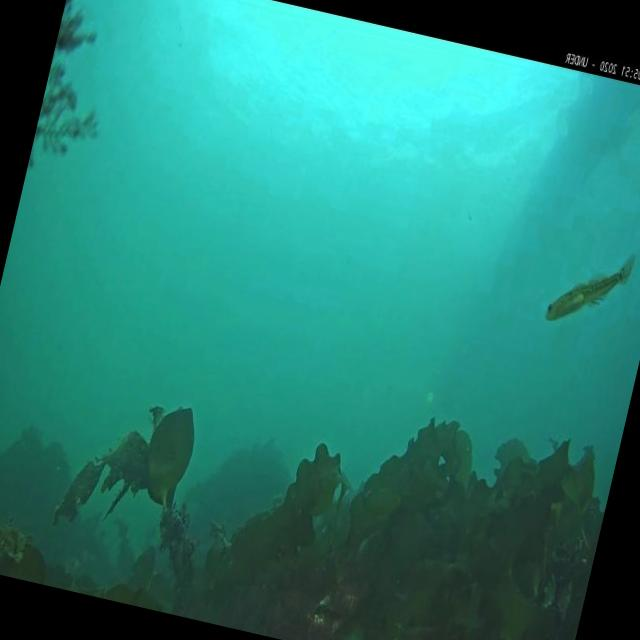fish: (543, 246, 631, 335)
